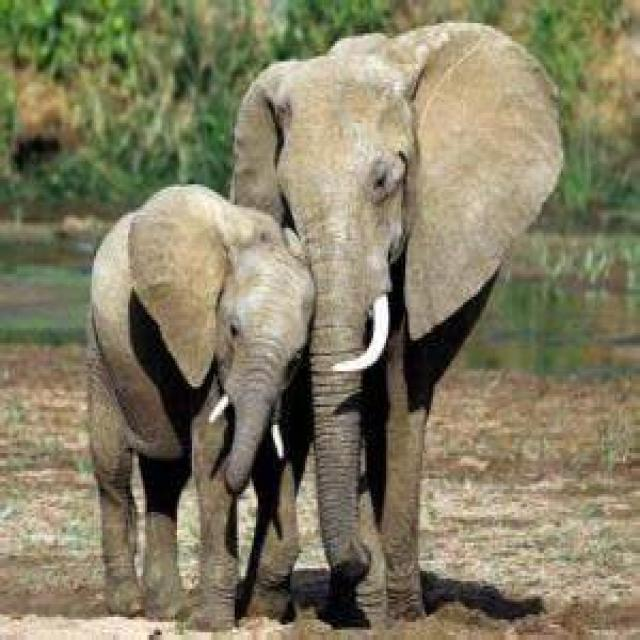elephant: (230, 20, 565, 632), (87, 184, 318, 627)
